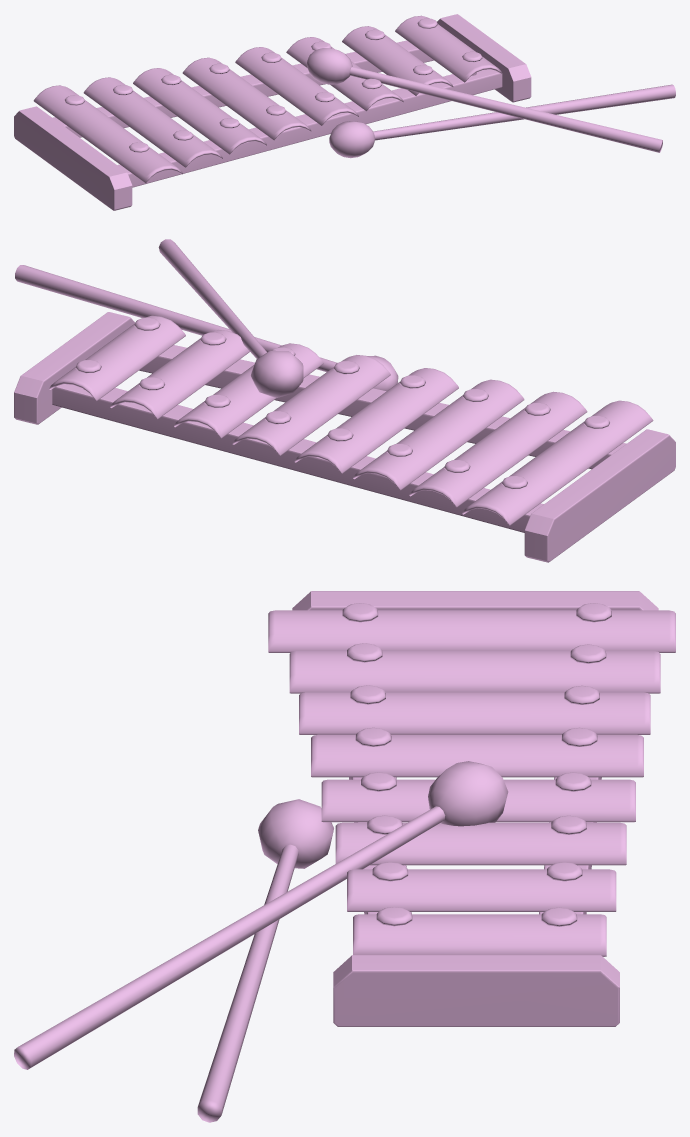
Rendered from Toy xylophone.fbx.
The picture shows the model from 3 angles, top to bottom: view 1: azimuth 30°, elevation 25°; view 2: azimuth 150°, elevation 25°; view 3: azimuth 270°, elevation 25°; orthographic projection. The views are drawn at different scales.
Parts seen in each view (by area): view 1: pSphere4; view 2: pSphere4; view 3: pSphere4.
Boxes of the visible parts, box(x1,y1,x2,y2) form: pSphere4: box(14, 14, 675, 210); pSphere4: box(14, 239, 675, 562); pSphere4: box(14, 591, 675, 1122).
Bounding box in the file's own units: 1.05 × 0.1207 × 0.6152.
